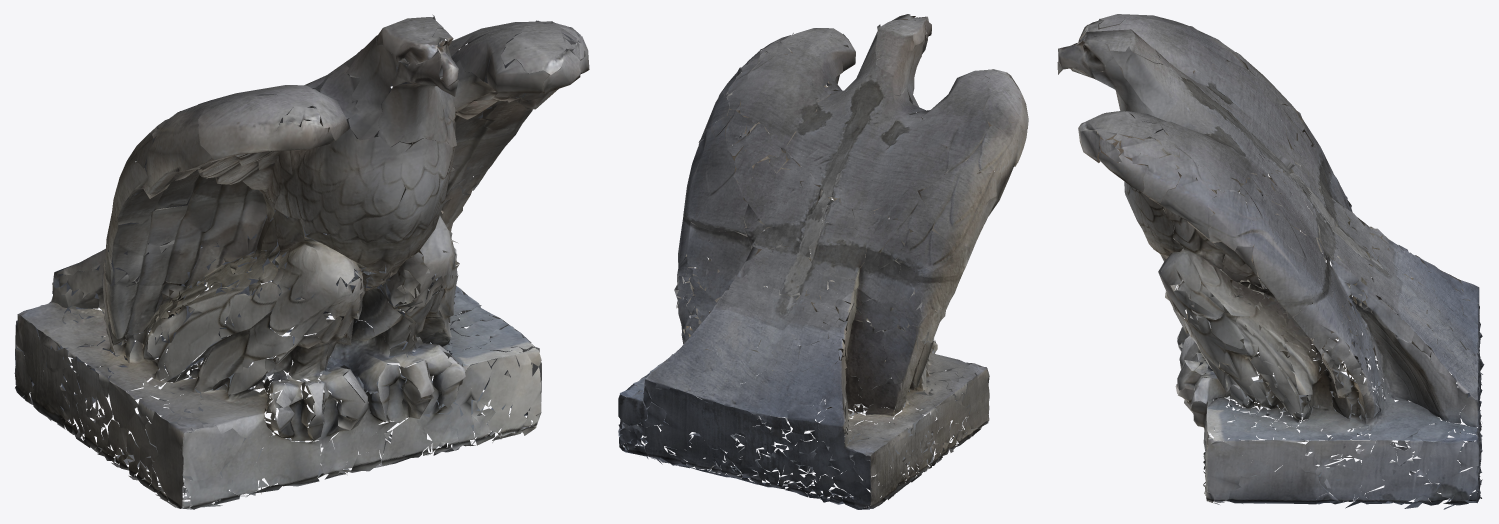
File: eagle_sculpture.glb
3 renders of one model, left to right at view 1: azimuth 30°, elevation 25°; view 2: azimuth 150°, elevation 25°; view 3: azimuth 270°, elevation 25°, orthographic. The views are drawn at different scales.
Visible parts, largest first — view 1: Object_2, Object_3; view 2: Object_2, Object_3; view 3: Object_2, Object_3.
Boxes of the visible parts, x1,y1,x2,y2 form: Object_2: [23, 14, 589, 509]; Object_3: [14, 166, 541, 508]; Object_2: [618, 14, 1028, 509]; Object_3: [618, 254, 989, 508]; Object_2: [1057, 14, 1483, 509]; Object_3: [1164, 187, 1484, 505].
Size of the model in its own units: 20.72 by 23.7 by 22.83.
Materials: 1 (1 with a texture image).
